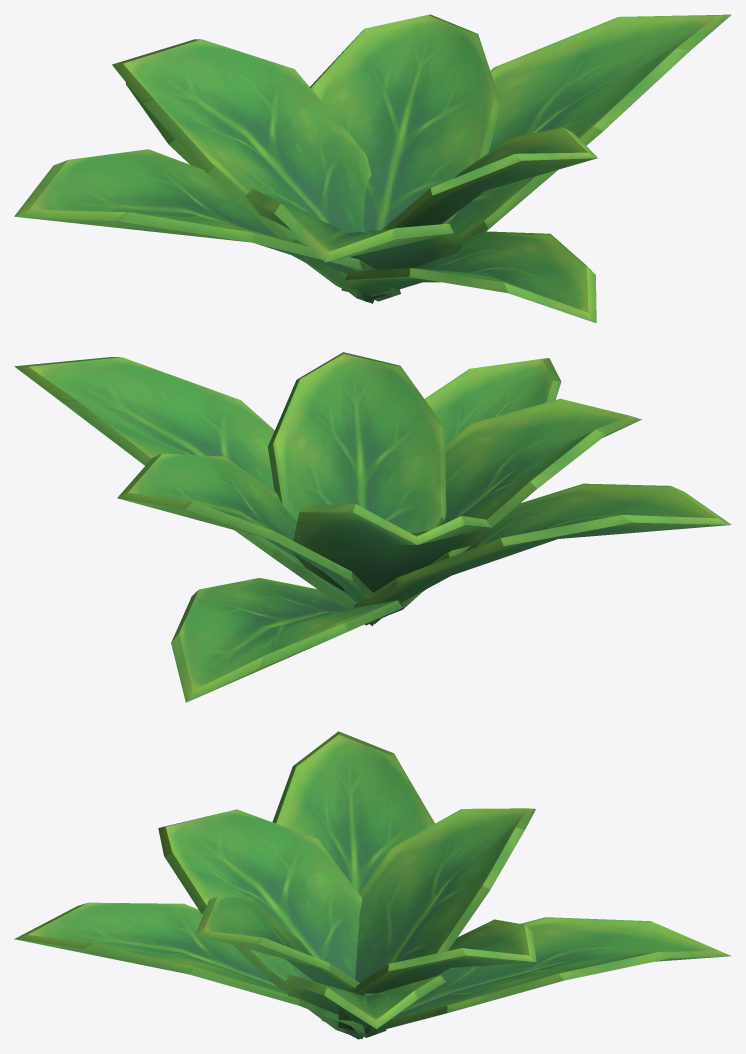
The model's file is Bush.fbx.
3 renders of one model, top to bottom at view 1: azimuth 30°, elevation 25°; view 2: azimuth 150°, elevation 25°; view 3: azimuth 270°, elevation 25°, orthographic. The views are drawn at different scales.
Parts seen in each view (by area): view 1: plant10; view 2: plant10; view 3: plant10.
Part boxes in pixels (x1,y1,x2,y2): plant10: (14, 14, 731, 323); plant10: (14, 352, 731, 702); plant10: (14, 731, 731, 1039).
Bounding box in the file's own units: 7.36 × 2.03 × 7.4.
